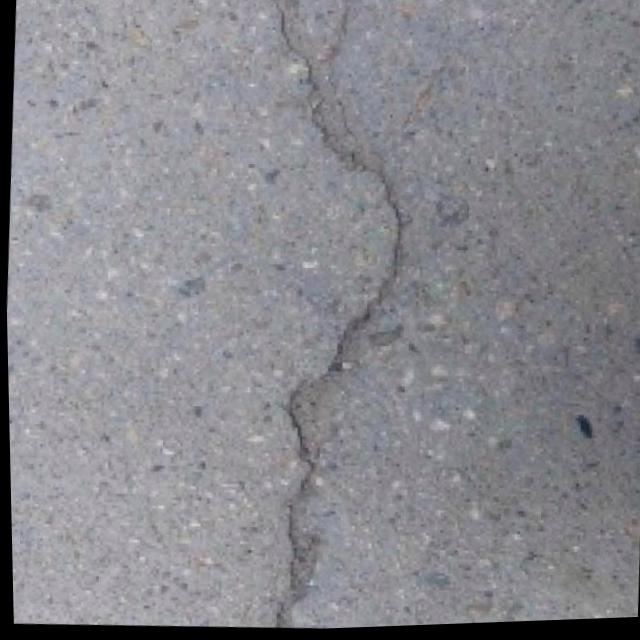Crack: (223, 0, 448, 630)
